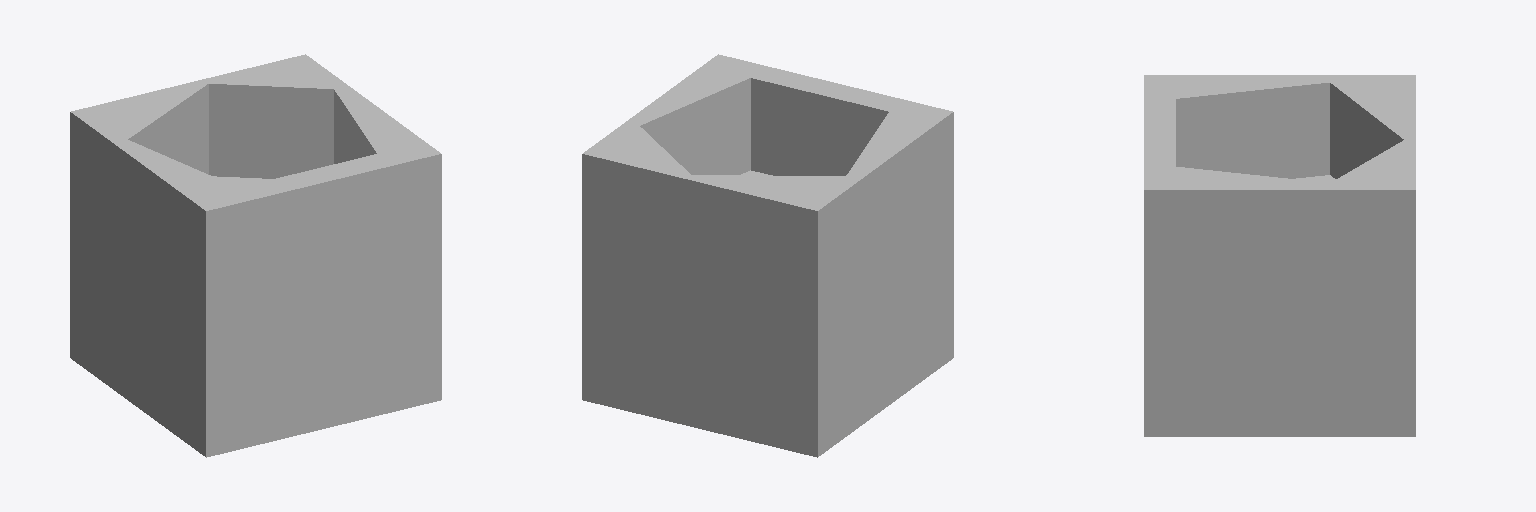
File: Pentagon_cube_bottle_preprocessed.obj
3 renders of one model, left to right at view 1: azimuth 30°, elevation 25°; view 2: azimuth 150°, elevation 25°; view 3: azimuth 270°, elevation 25°, orthographic.
Bounding box in the file's own units: 0.08 × 0.08 × 0.08.